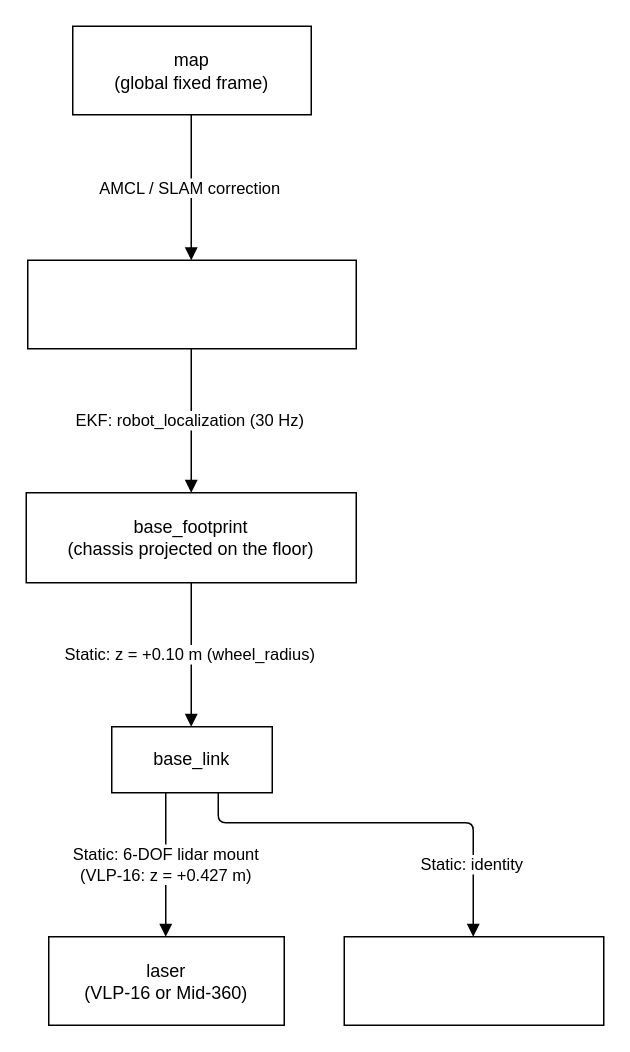
Some shapes in this 630 by 1052 pixel diagram are drawn without their labels. Here are the shapes that lost their labels. From the top down, the centre of each, then its label:
At point (191, 304): "odom (smooth local odometry frame)".
At point (473, 980): "imu (CMPS12 via STM32)".
